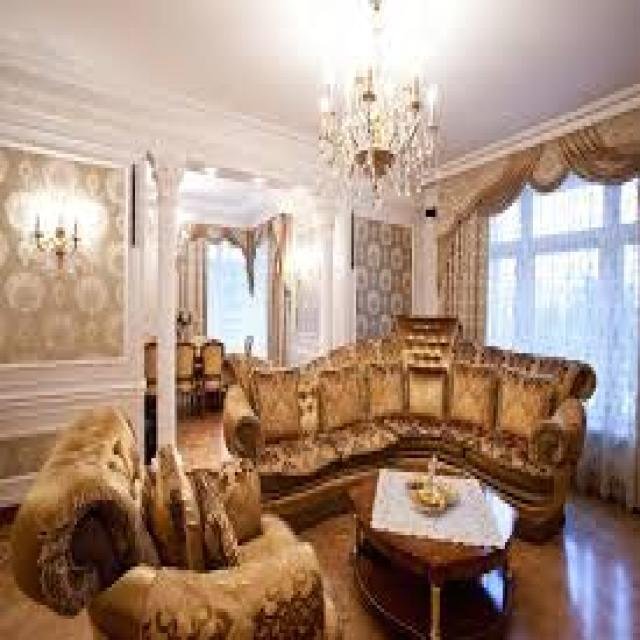Chair: (147, 333, 224, 400)
Sofa: (16, 400, 322, 640), (236, 333, 583, 528)
Table: (349, 465, 528, 640)
